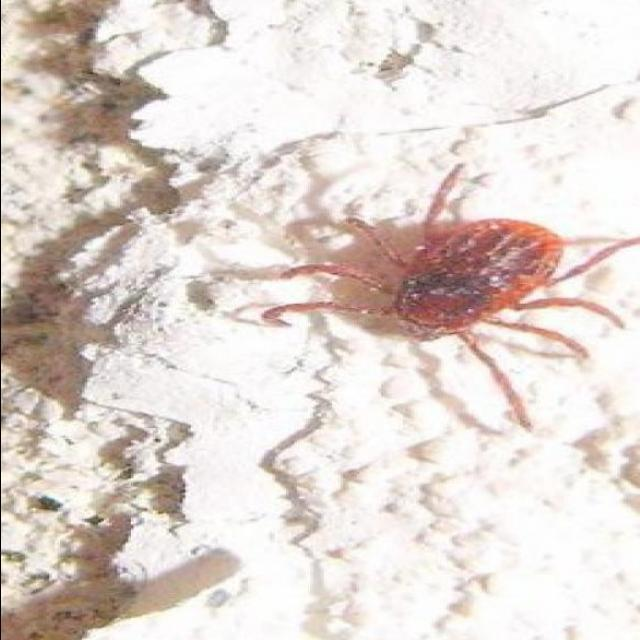Rhipicephalus Sanguineus-F: (233, 164, 640, 434)
